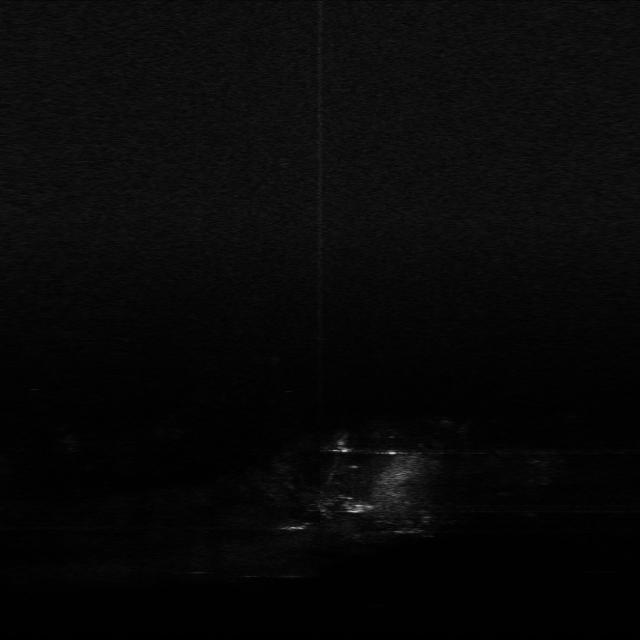rov: (344, 504, 368, 514)
